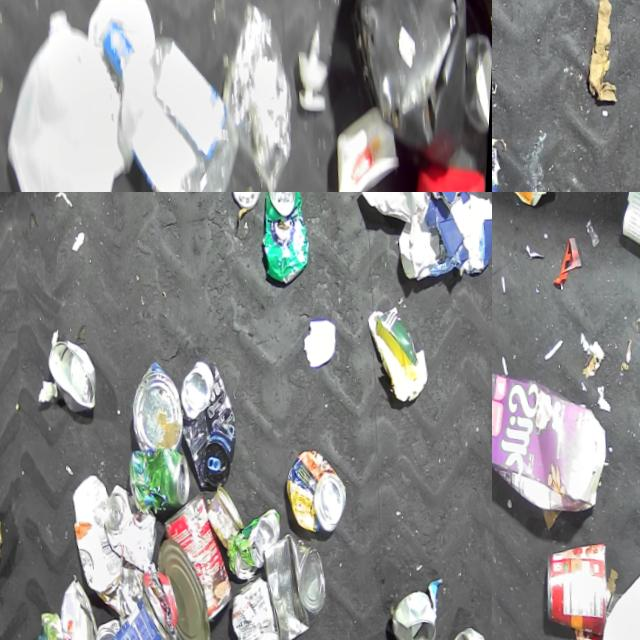can: (160, 489, 243, 623), (175, 355, 247, 488), (260, 527, 337, 640), (156, 533, 221, 640), (284, 443, 355, 533), (104, 478, 168, 573), (128, 357, 190, 450), (256, 192, 315, 283), (130, 442, 199, 514), (100, 586, 190, 640), (46, 331, 103, 412), (228, 504, 289, 579), (229, 571, 295, 640), (60, 575, 108, 640), (207, 482, 252, 547), (391, 587, 445, 640), (492, 126, 512, 192), (444, 619, 492, 640), (97, 615, 129, 640), (227, 192, 263, 207)
milk_jug: (0, 0, 143, 192), (538, 528, 625, 635), (590, 548, 640, 640)
non_white_jug: (334, 0, 488, 172)
plastic_bottle: (94, 2, 257, 192)
